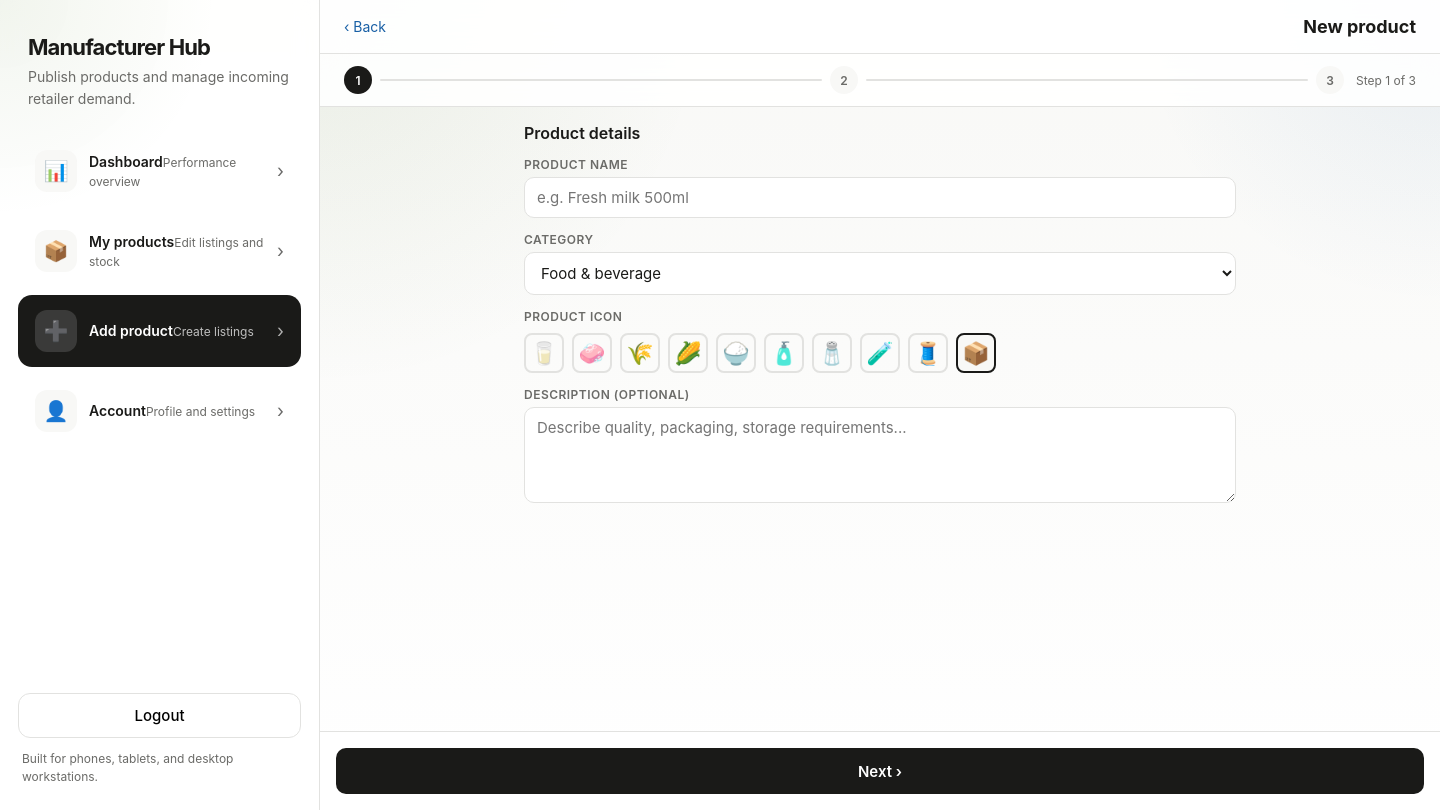
Test: the three steps › steps back to the previous one
Click the button "Next ›": (880, 771) 336,748 -> 1424,794
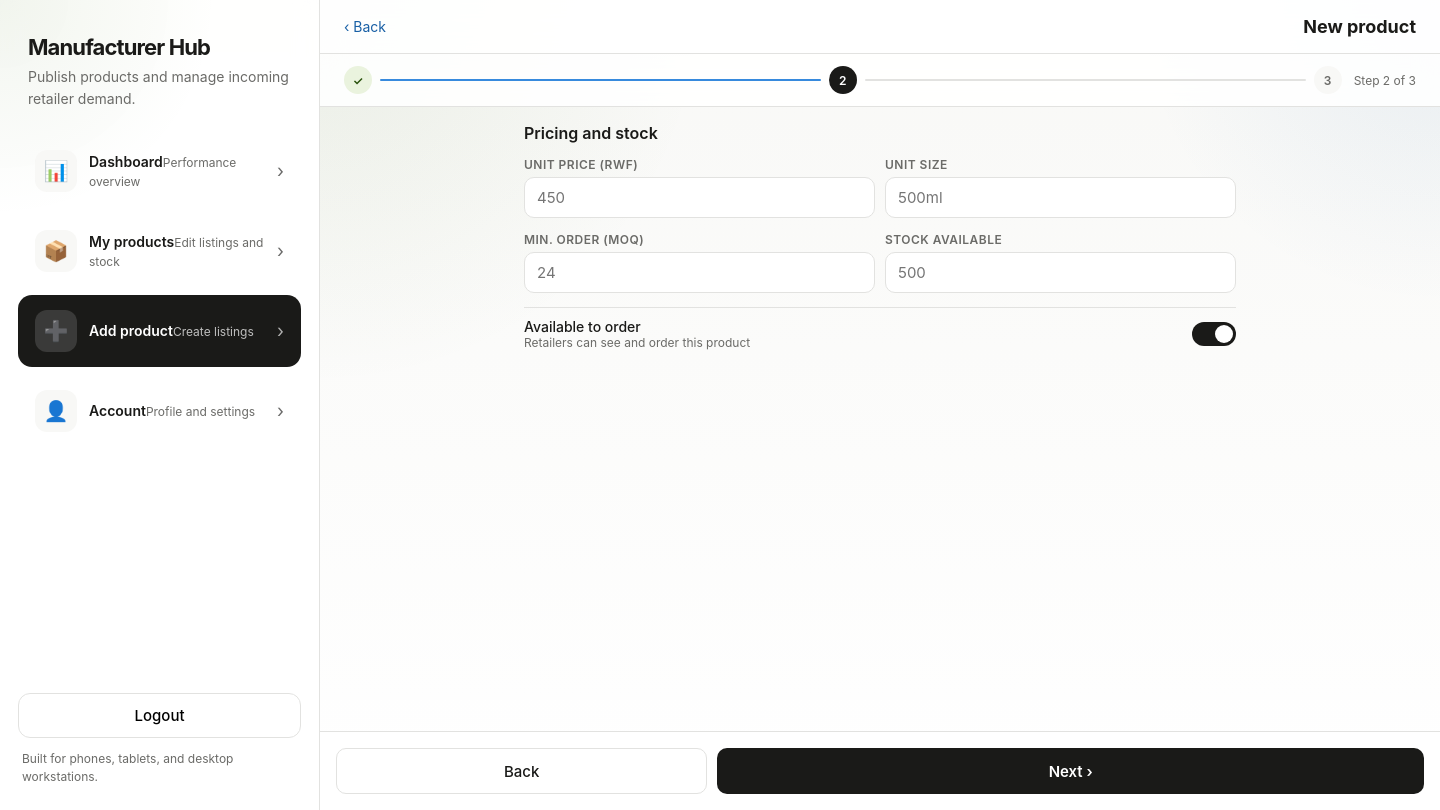
Click the button "Next ›": (1071, 771) 717,748 -> 1424,794
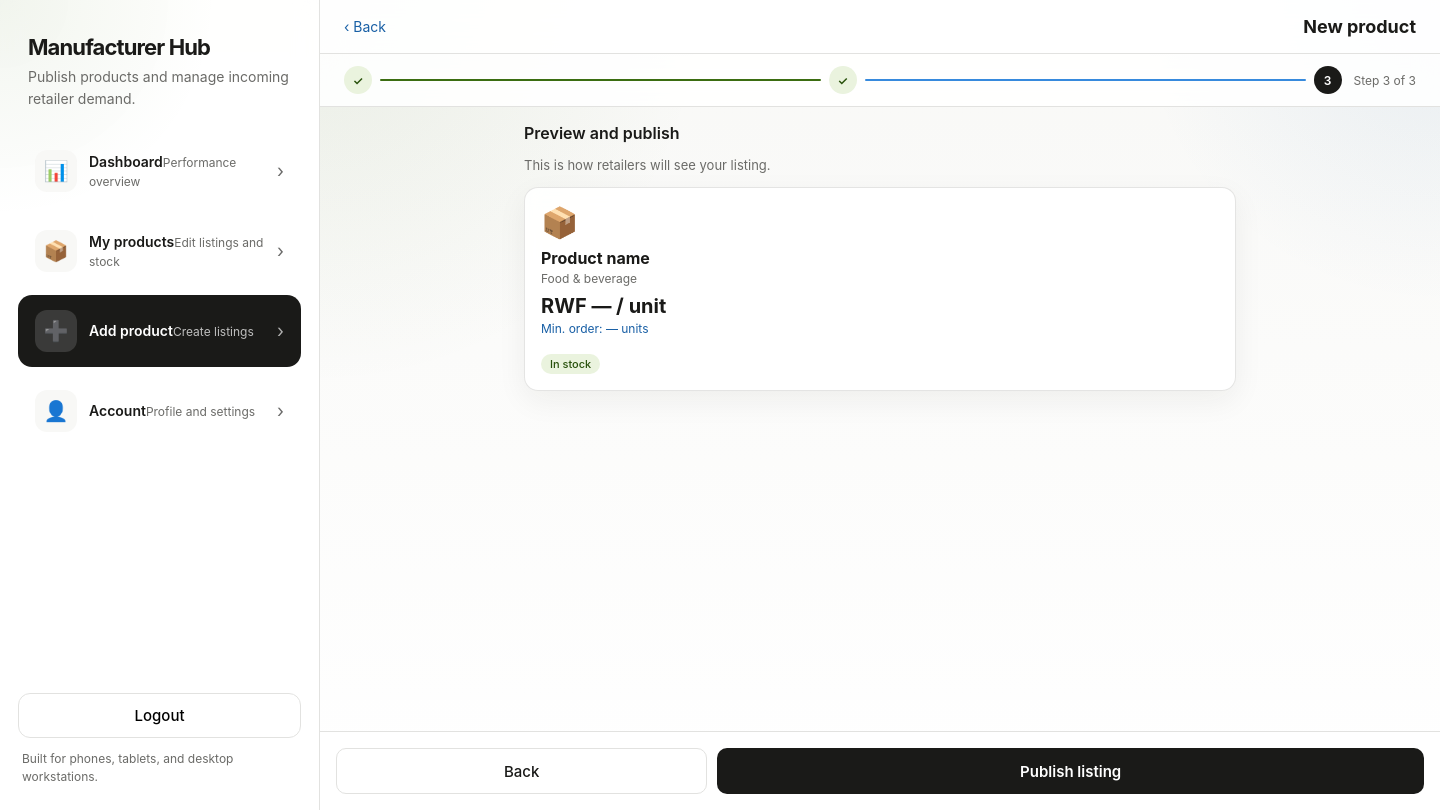
Click the button "Back": (522, 771) 336,748 -> 707,794
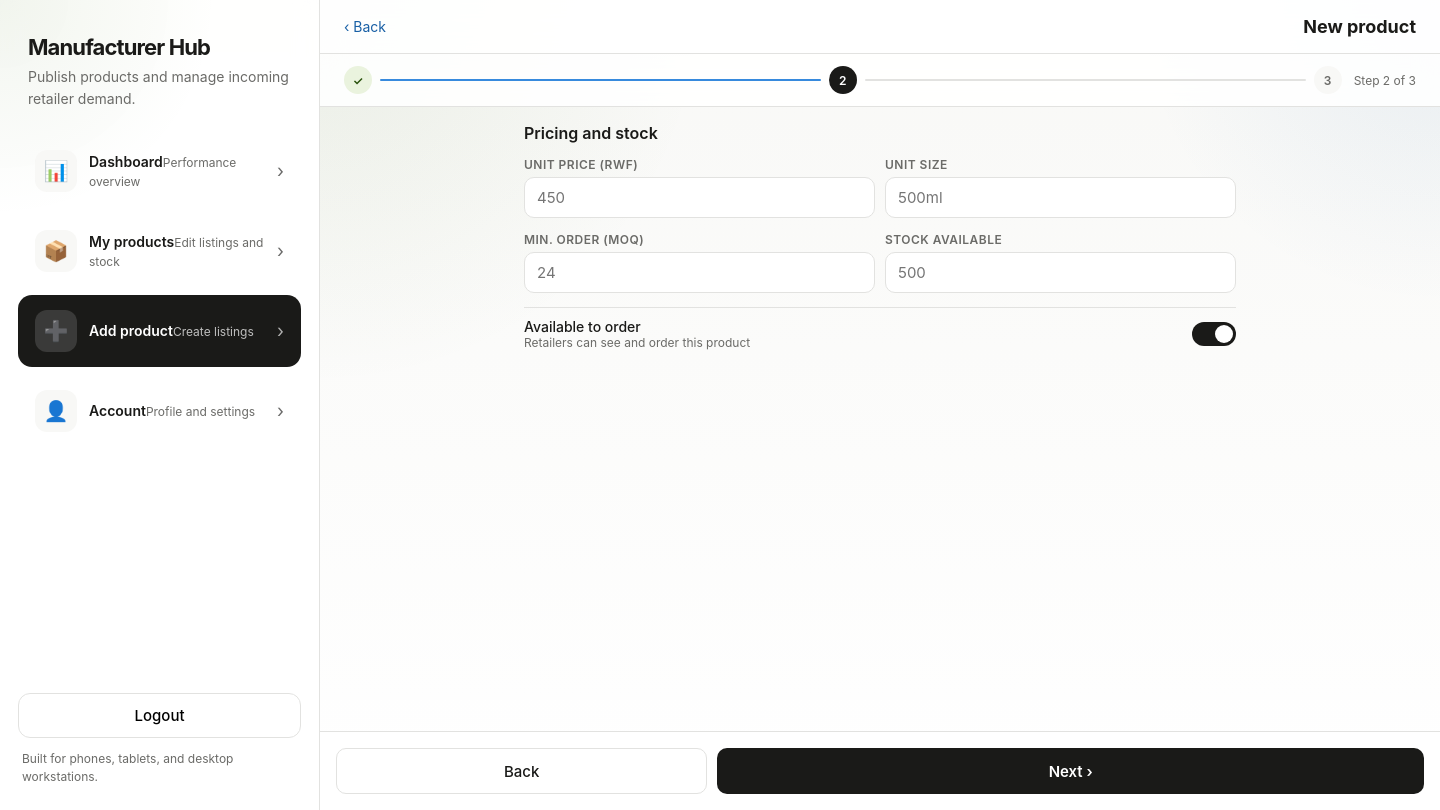
expect the text "Step 2 of 3" is shown: met, box 1354,72 -> 1416,88
